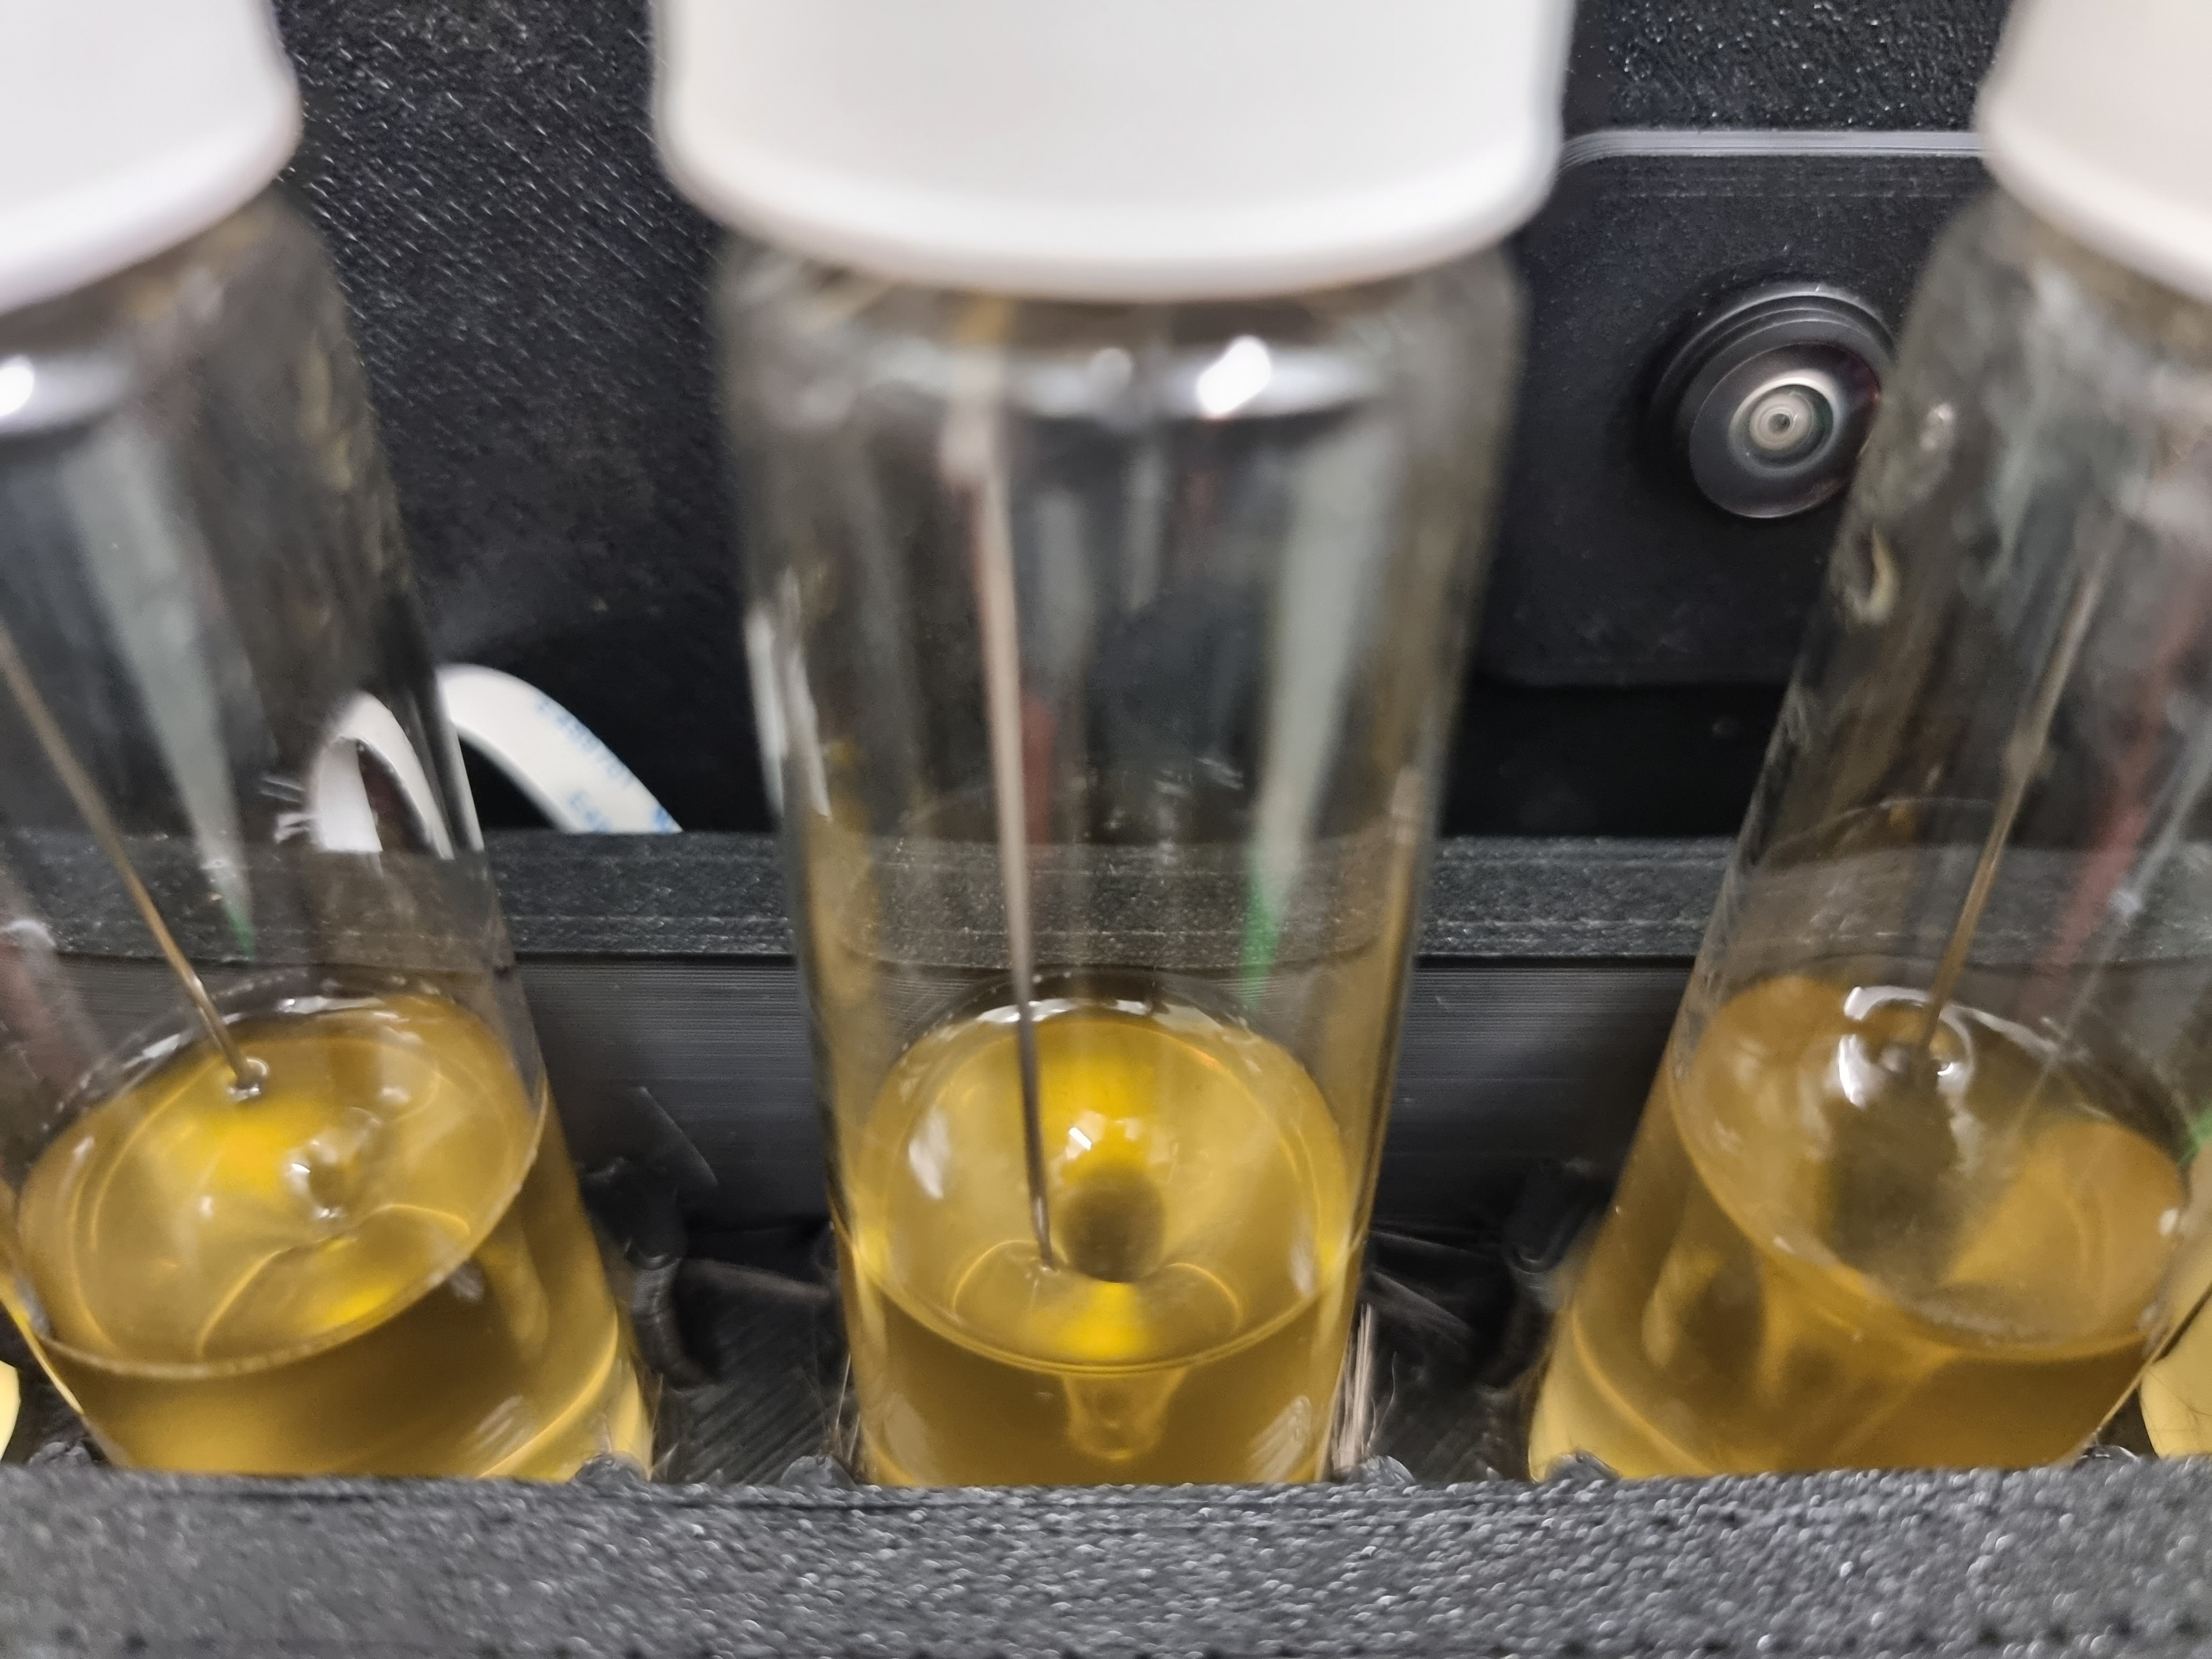vial: (631, 0, 1594, 1486), (1531, 10, 2212, 1473), (9, 9, 685, 1481)
